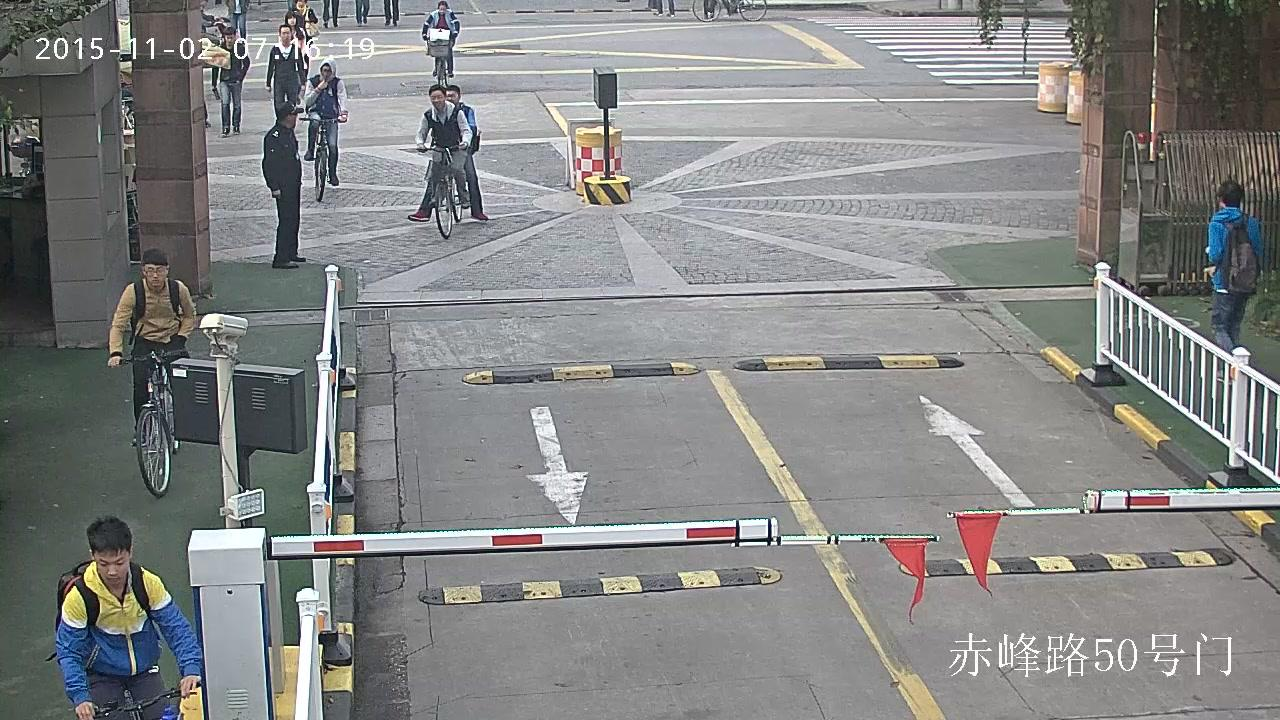person: (43, 515, 204, 720), (44, 514, 203, 719), (108, 249, 195, 498), (108, 248, 197, 446), (1206, 179, 1265, 387), (408, 83, 494, 222), (414, 83, 471, 240), (261, 101, 306, 269), (298, 59, 348, 202), (414, 85, 472, 207), (303, 60, 348, 185), (212, 27, 249, 137), (265, 24, 307, 107), (422, 1, 459, 87), (422, 1, 459, 77), (285, 0, 318, 47), (225, 0, 250, 38), (321, 0, 339, 27), (383, 0, 399, 30), (354, 0, 370, 27)
